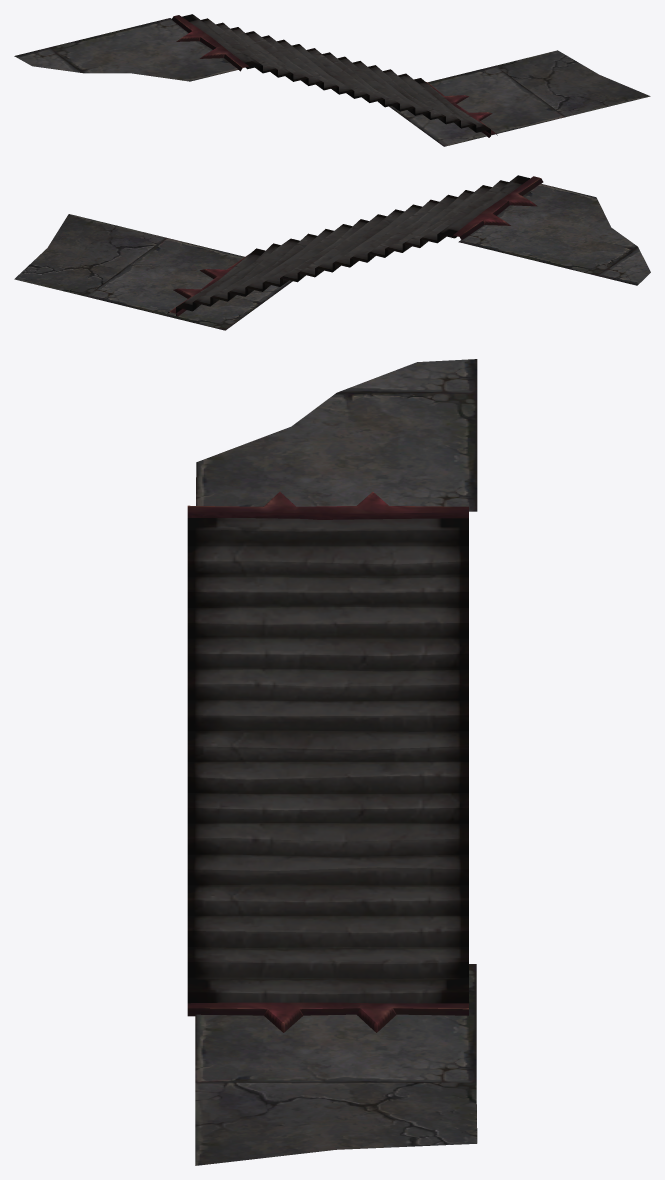
Rendered from mesh_tower_03_badak.FBX.
3 views of the same model, one above another, from view 1: azimuth 30°, elevation 25°; view 2: azimuth 150°, elevation 25°; view 3: azimuth 270°, elevation 25° (orthographic). The views are drawn at different scales.
Parts seen in each view (by area): view 1: mesh_tower_03_badak; view 2: mesh_tower_03_badak; view 3: mesh_tower_03_badak.
Part boxes in pixels (x1,y1,x2,y2): mesh_tower_03_badak: (14,14,650,146); mesh_tower_03_badak: (14,175,650,330); mesh_tower_03_badak: (187,359,477,1165).
Bounding box in the file's own units: 18.61 × 4.1 × 4.12.
